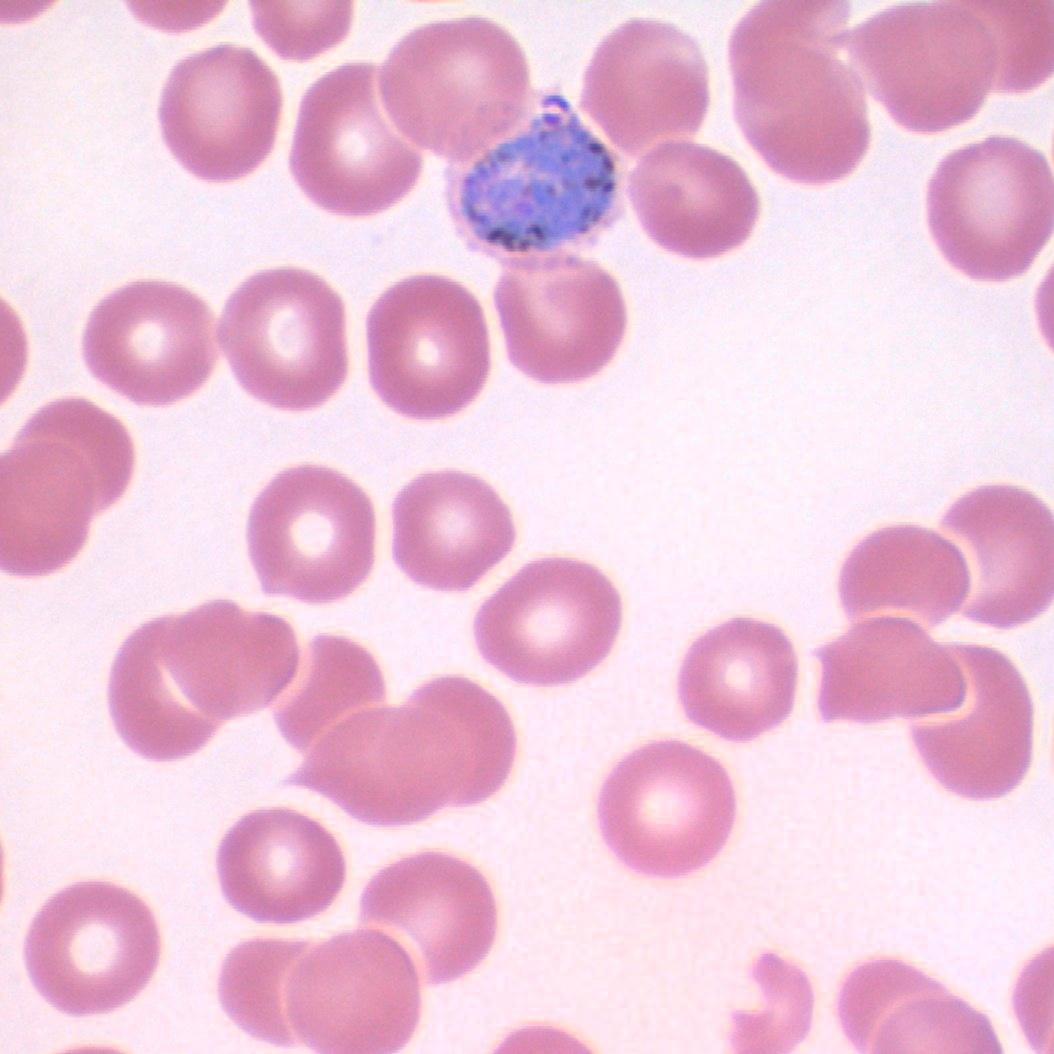Infected: (442, 84, 632, 267)
Uninfected: (280, 700, 468, 828), (288, 60, 423, 219), (380, 16, 527, 158), (842, 0, 997, 132), (904, 644, 1034, 801), (734, 36, 868, 184), (356, 848, 496, 986), (472, 554, 618, 686), (596, 740, 735, 878), (24, 876, 160, 1015), (219, 264, 349, 409), (926, 136, 1053, 283), (496, 246, 626, 385), (365, 275, 492, 417), (80, 280, 221, 407), (104, 614, 221, 764), (288, 924, 423, 1054), (582, 20, 711, 156), (248, 464, 376, 601), (158, 42, 279, 185), (934, 484, 1054, 628), (16, 394, 135, 532), (632, 138, 760, 260), (390, 468, 514, 593), (676, 614, 799, 740), (168, 596, 301, 711), (215, 806, 348, 921), (396, 674, 514, 803), (836, 524, 970, 631), (0, 442, 95, 575)
